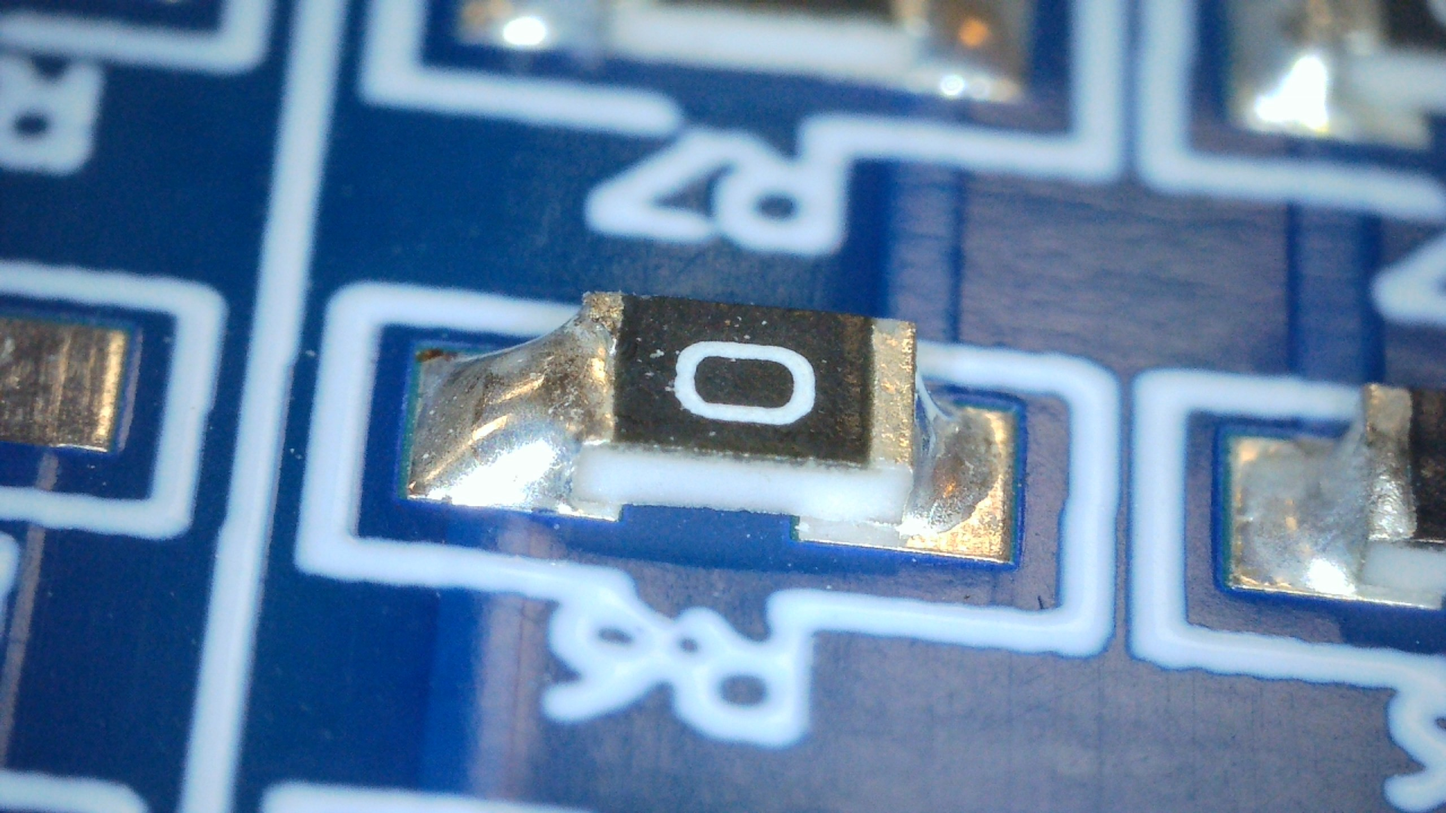NG: (871, 319, 998, 531)
OK: (406, 293, 620, 510)
